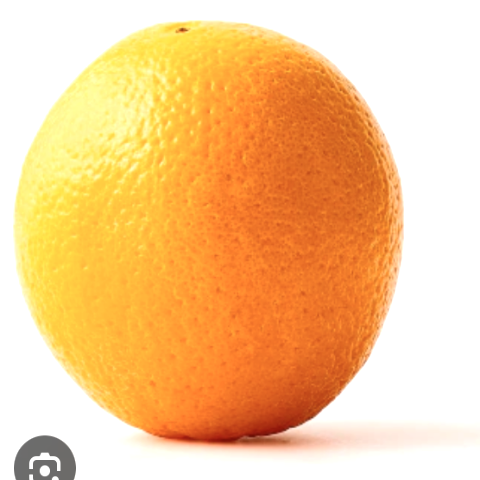orange: (0, 17, 444, 480)
